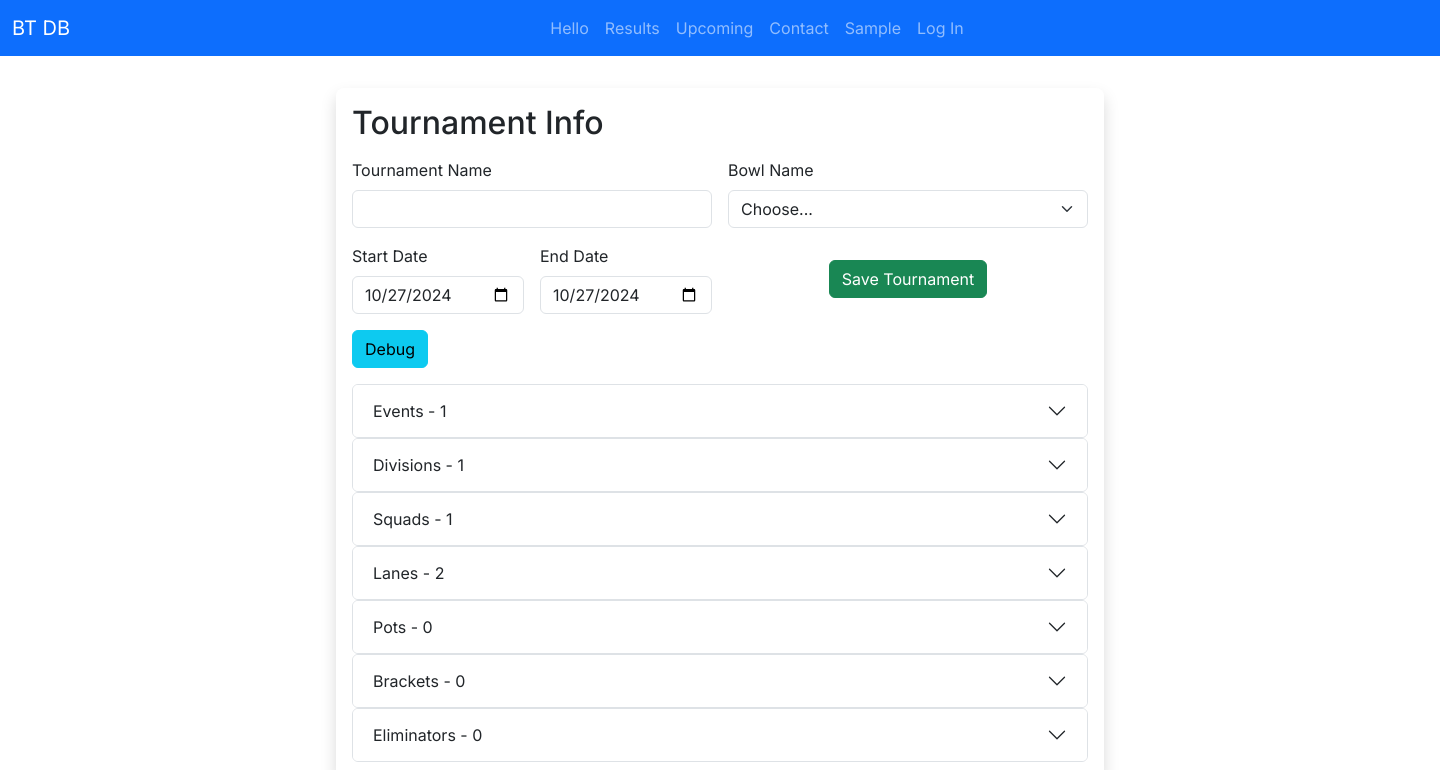
it: TmntDataPage - Squads Component › render the squad game errors › render the less than min squad game error
This screenshot has width=1440, height=770.
Click the button "Squads - 1".
click(410, 519)  # box top-left (353, 493), bottom-right (1087, 545)
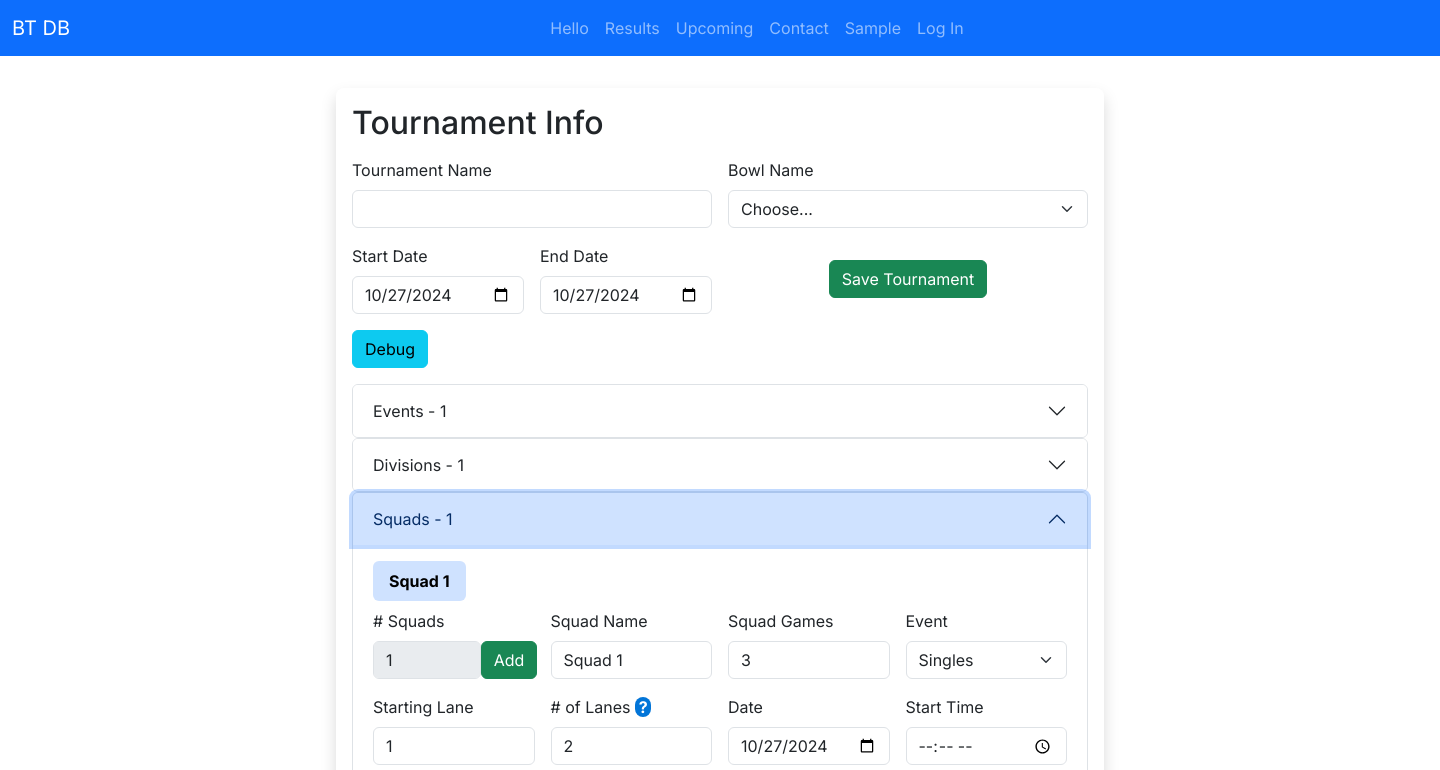
enter less than min value
Replace the text in the number field labelled "Squad Games" with "0" at point(809, 660), box top-left (728, 641), bottom-right (890, 679)
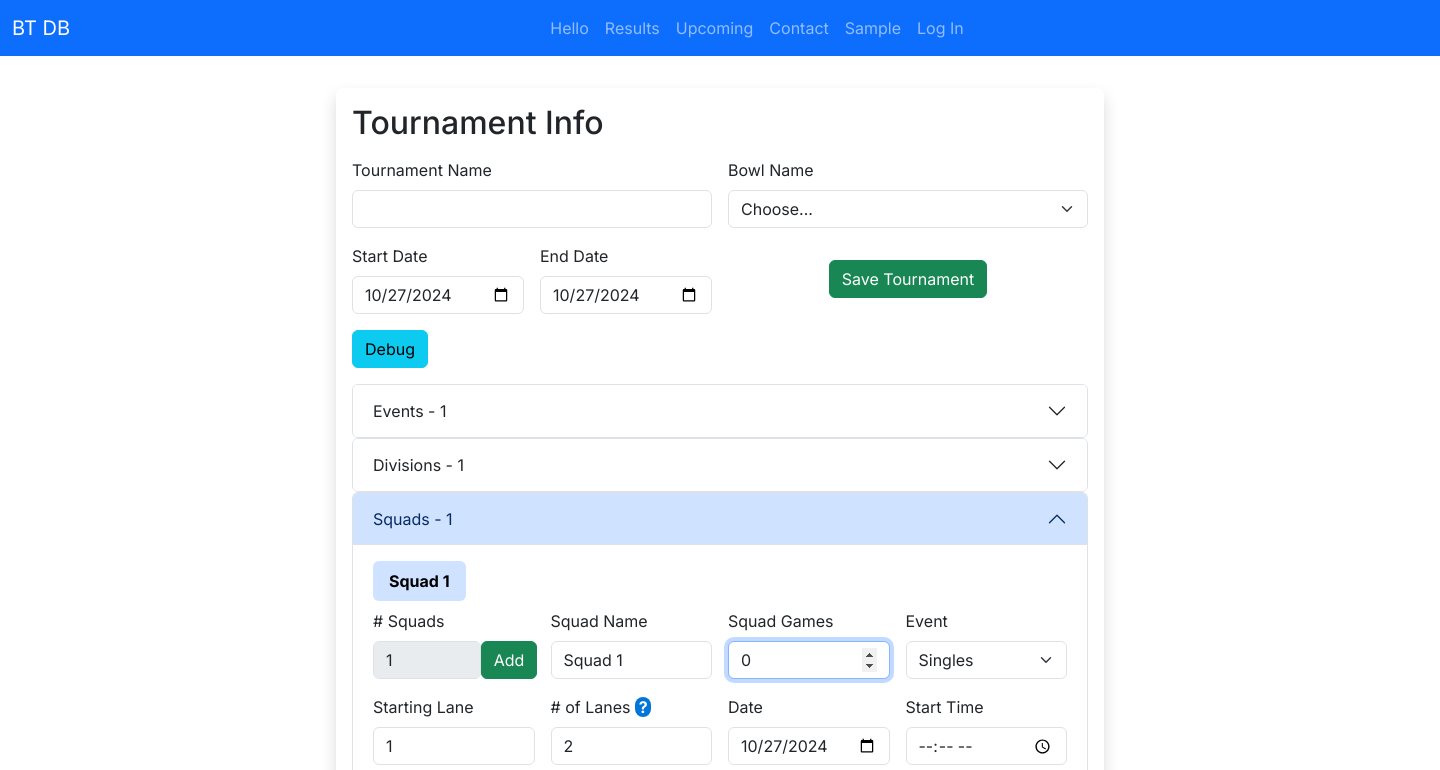
should show error
Click the button "Save Tournament".
click(908, 279)  # box top-left (829, 260), bottom-right (987, 298)
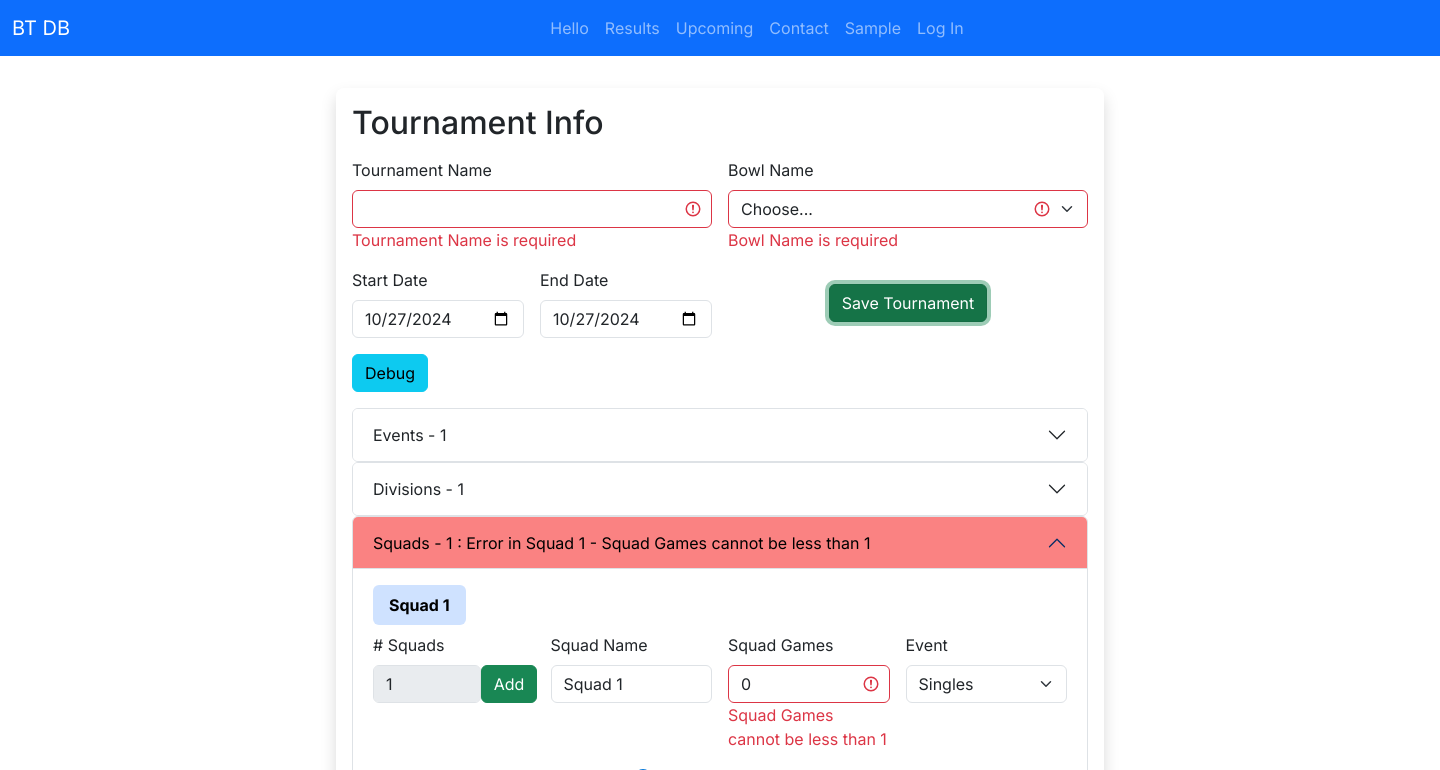
Expected: the text with test id "dangerSquadGames" shows "Games cannot be less than", top-left (728, 705), bottom-right (887, 749)
Expected: the button "Squads" shows "Games cannot be less than", top-left (353, 517), bottom-right (1087, 569)
